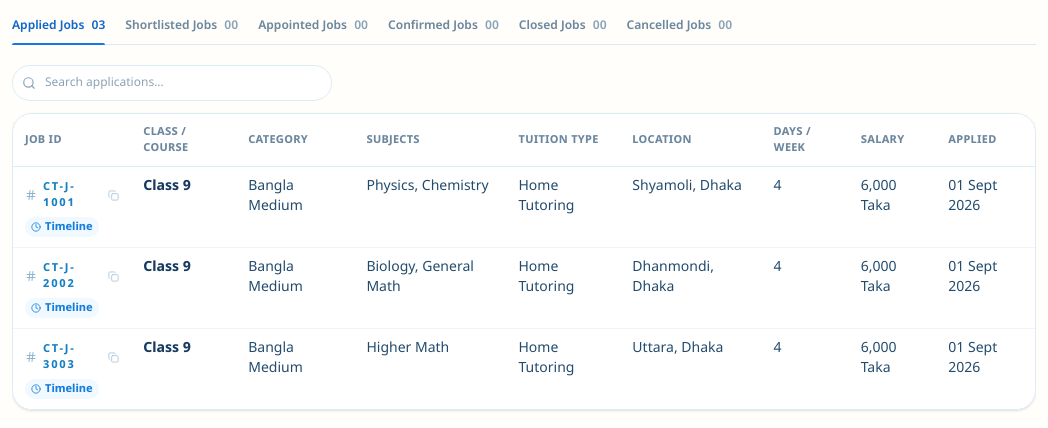
it: Tutor Application Search & Filtering › filters visible applications live by Job ID, subject, or location
expect the button "CT-J-1001" is shown: met, box [21,177,123,213]
expect the button "CT-J-2002" is shown: met, box [21,258,123,294]
// Filter by Job ID
Type "2002" into the search field at (172, 83), box [12,65,332,101]
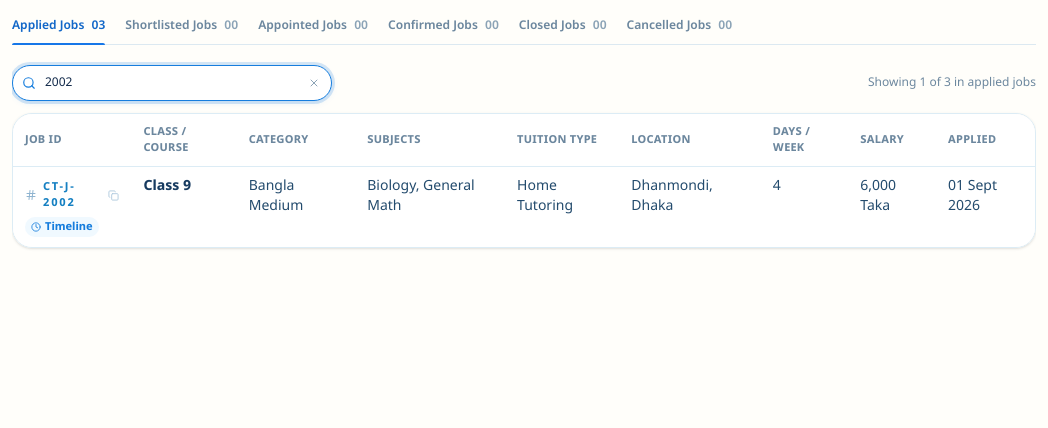
expect the button "CT-J-1001" is gone: met
expect the button "CT-J-3003" is gone: met
expect the text "Showing 1 of 3 in applied jobs" is shown: met, box [868,75,1036,91]
// Clear search using clear button
Click the button named "Clear search" at (314, 83), box [304,73,324,93]
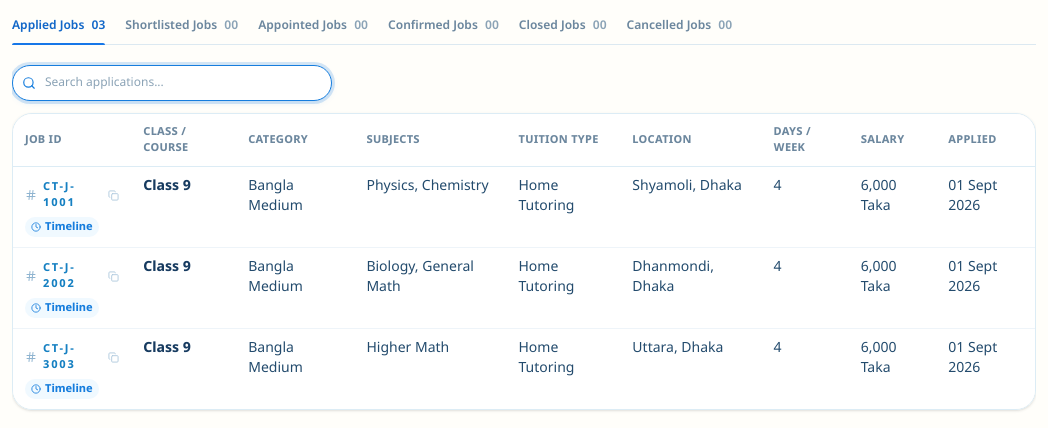
expect the button "CT-J-2002" is shown: met, box [21,258,123,294]
expect the button "CT-J-1001" is shown: met, box [21,177,123,213]
expect the button "CT-J-3003" is shown: met, box [21,339,123,375]
// Filter by subject
Type "Biology" into the search field at (172, 83), box [12,65,332,101]
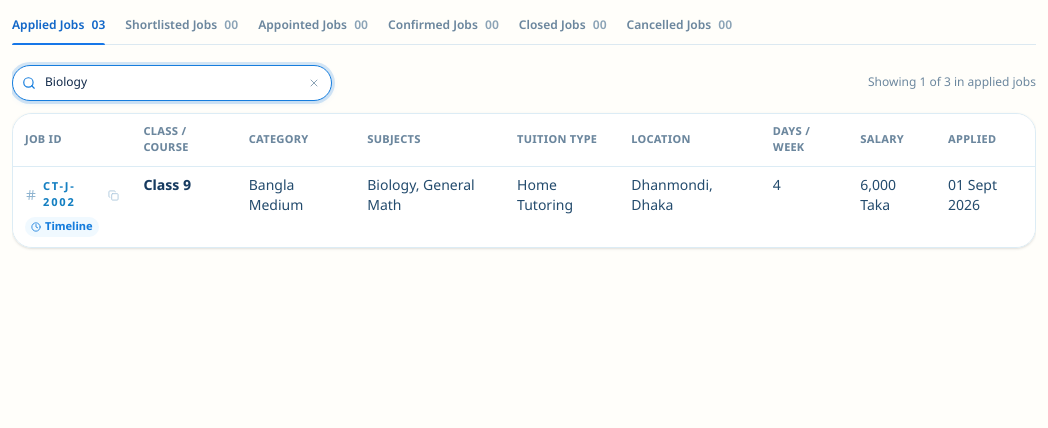
expect the button "CT-J-2002" is shown: met, box [21,177,124,213]
expect the button "CT-J-1001" is gone: met
// Filter by location
Replace the text in the search field with "Uttara" at (172, 83), box [12,65,332,101]
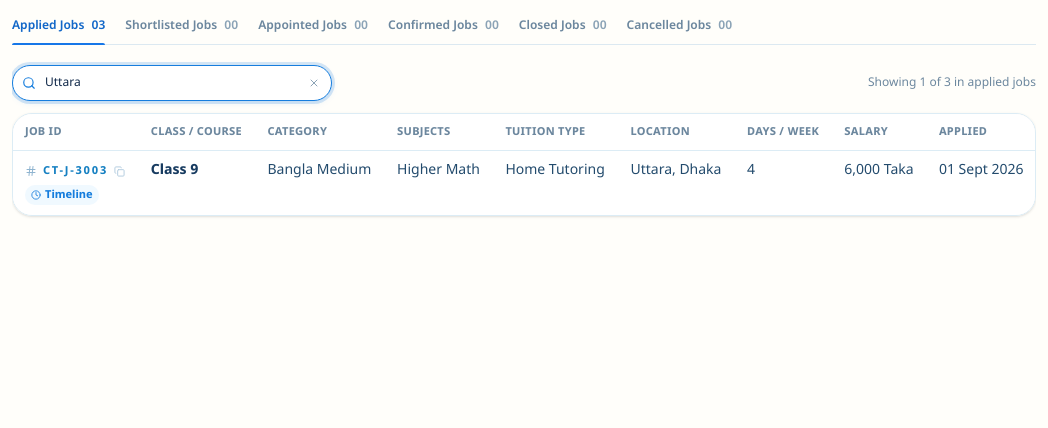
expect the button "CT-J-3003" is shown: met, box [21,161,129,181]
expect the button "CT-J-1001" is gone: met
// When query doesn't match anything
Replace the text in the search field with "NonExistentLocation" at (172, 83), box [12,65,332,101]
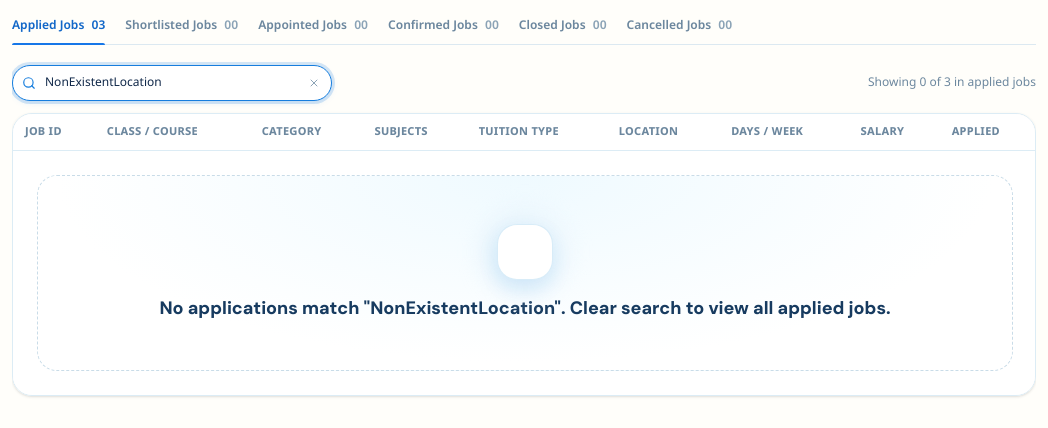
expect the heading "No applications match \"NonExistentLocation\"" is shown: met, box [159,296,891,320]
